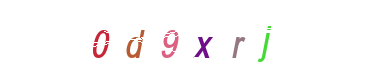0: (77, 0, 157, 80)
9: (139, 0, 219, 80)
D: (134, 0, 214, 80)
J: (225, 0, 305, 80)
R: (163, 0, 243, 80)
X: (145, 0, 225, 80)
